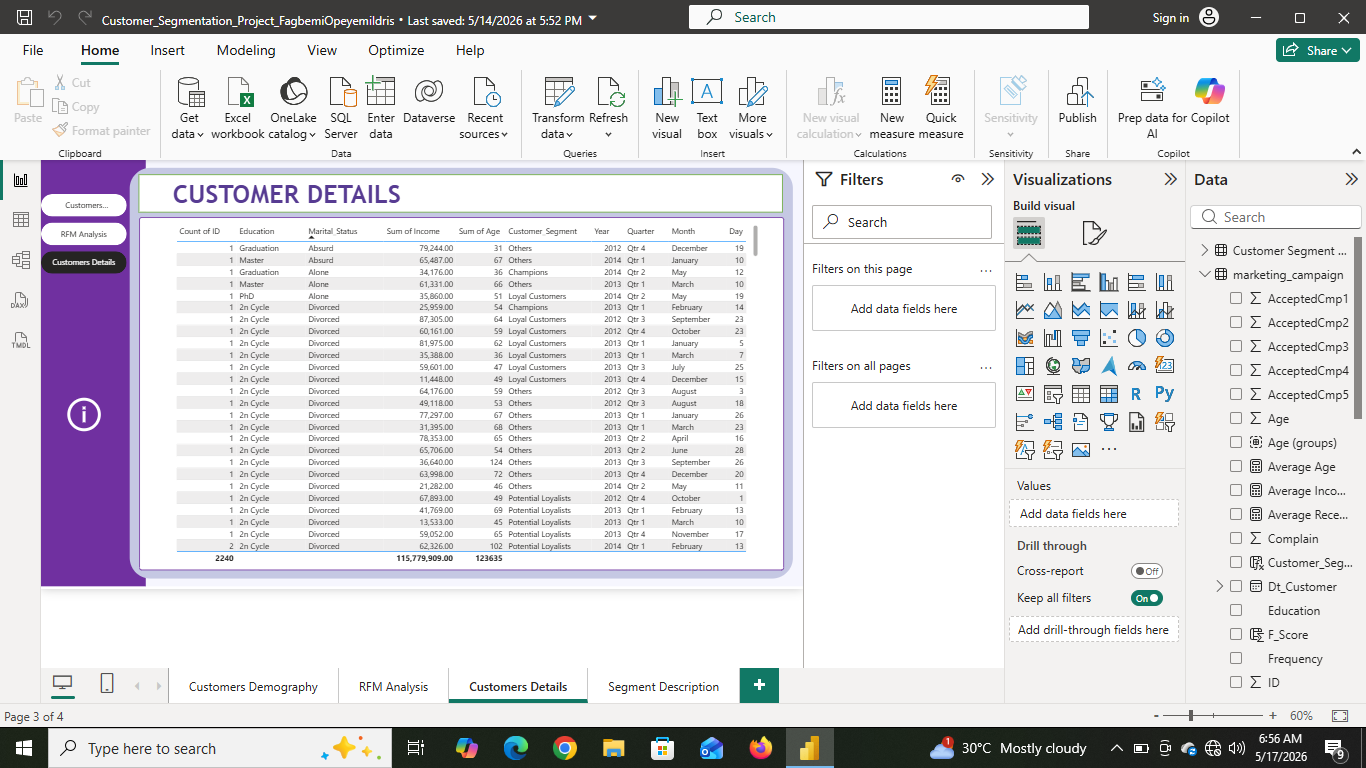

What the dashboard file says about the page in this screenshot:
{"tool":"powerbi","page":{"name":"Customers Details","canvas":[1280,720],"ordinal":2},"visuals":[{"type":"tableEx","fields":{"Values":["CountNonNull(marketing_campaign.ID)","marketing_campaign.Education","marketing_campaign.Marital_Status","Sum(marketing_campaign.Income)","Sum(marketing_campaign.Age)","marketing_campaign.Customer_Segment","marketing_campaign.Dt_Customer.Variation.Date Hierarchy.Year","marketing_campaign.Dt_Customer.Variation.Date Hierarchy.Quarter","marketing_campaign.Dt_Customer.Variation.Date Hierarchy.Month","marketing_campaign.Dt_Customer.Variation.Date Hierarchy.Day"]},"box":[221.7,104.1,987.7,577.8],"z":0},{"type":"textbox","box":[176.4,26.9,648.4,58.8],"z":1000},{"type":"pageNavigator","box":[0,57.1,144.5,136.1],"z":2000},{"type":"actionButton","box":[31.9,393.1,80.6,68.9],"z":3000}]}

Visuals, with their boxes on the page's 1280x720 design canvas (x1, y1, x2, y2). These are canvas units, not pixel positions in the 1366x768 screenshot, which may show the page scaled, cropped or inside an application window:
tableEx - CountNonNull(marketing_campaign.ID) x marketing_campaign.Education: (222,104,1209,682)
textbox: (176,27,825,86)
pageNavigator: (0,57,144,193)
actionButton: (32,393,112,462)
